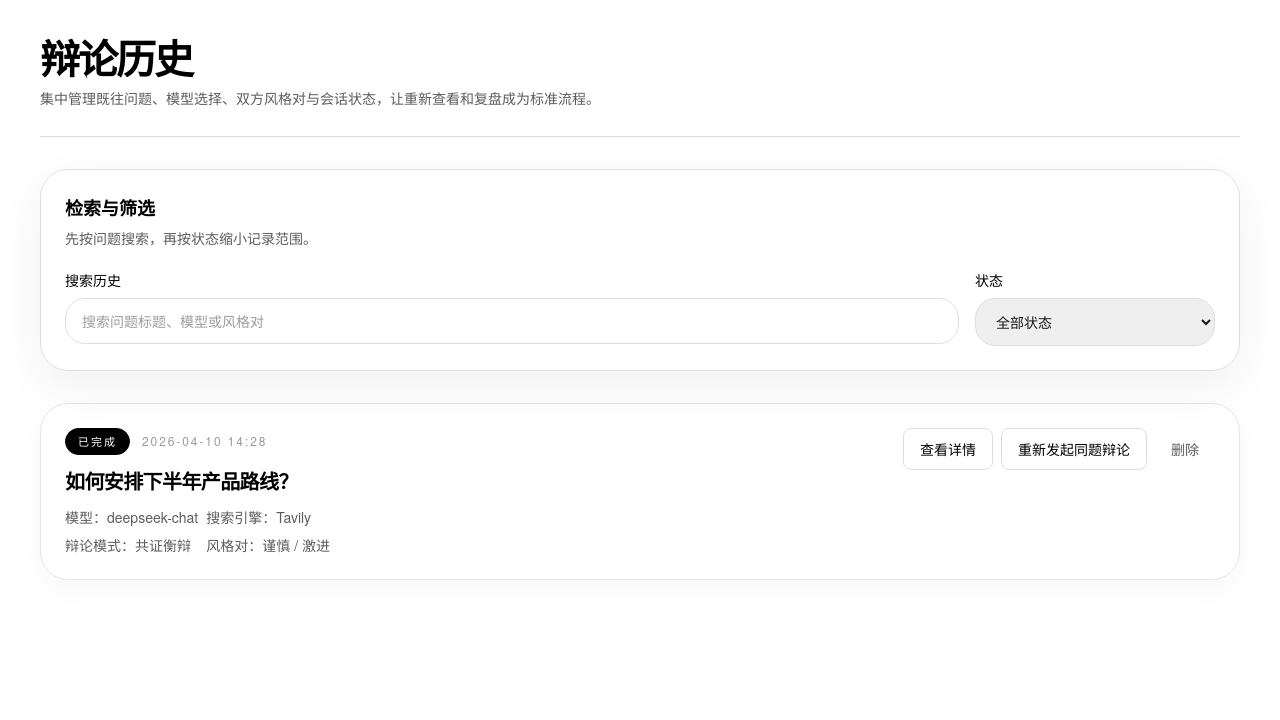
Test: HistoryPage › closes the debate details dialog when clicking outside the dialog surface
This screenshot has width=1280, height=720.
Step 1. Click the button "查看详情" → (948, 449), box [903,428,993,470]
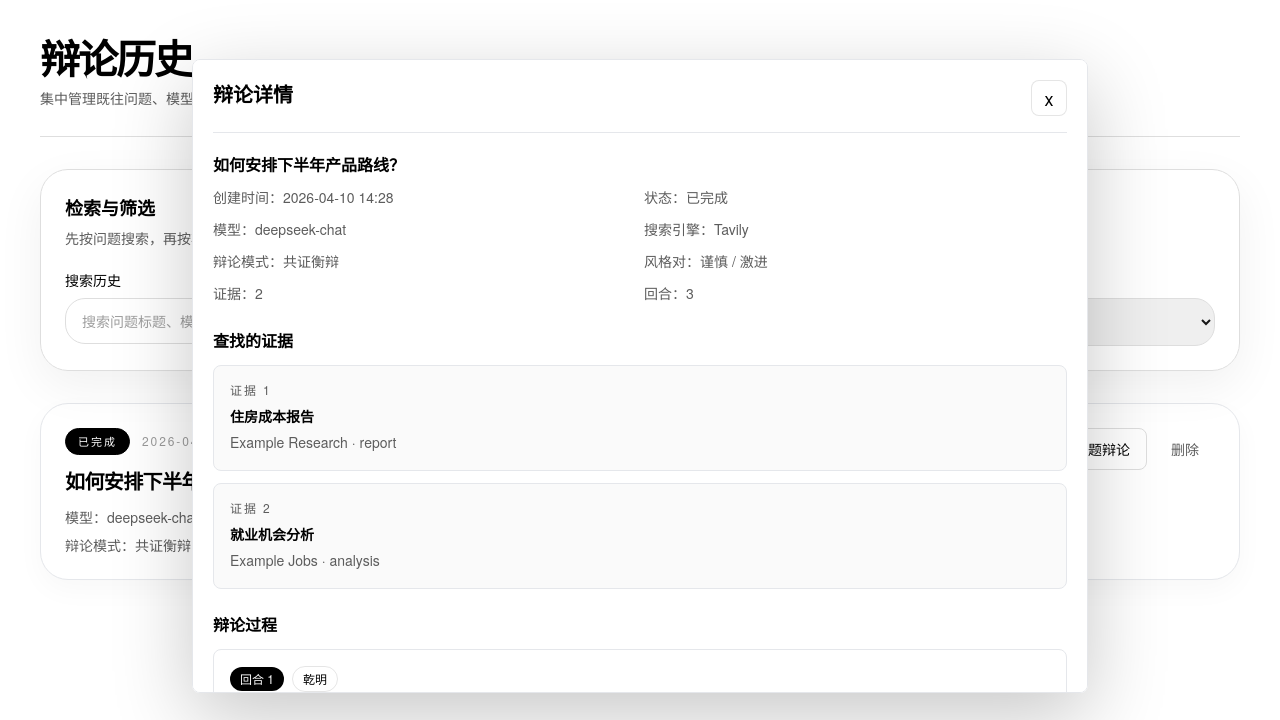
Expected: the dialog "辩论详情" is shown
Step 2. Click the element with test id "history-dialog-backdrop" → (640, 376), box [192,59,1088,693]
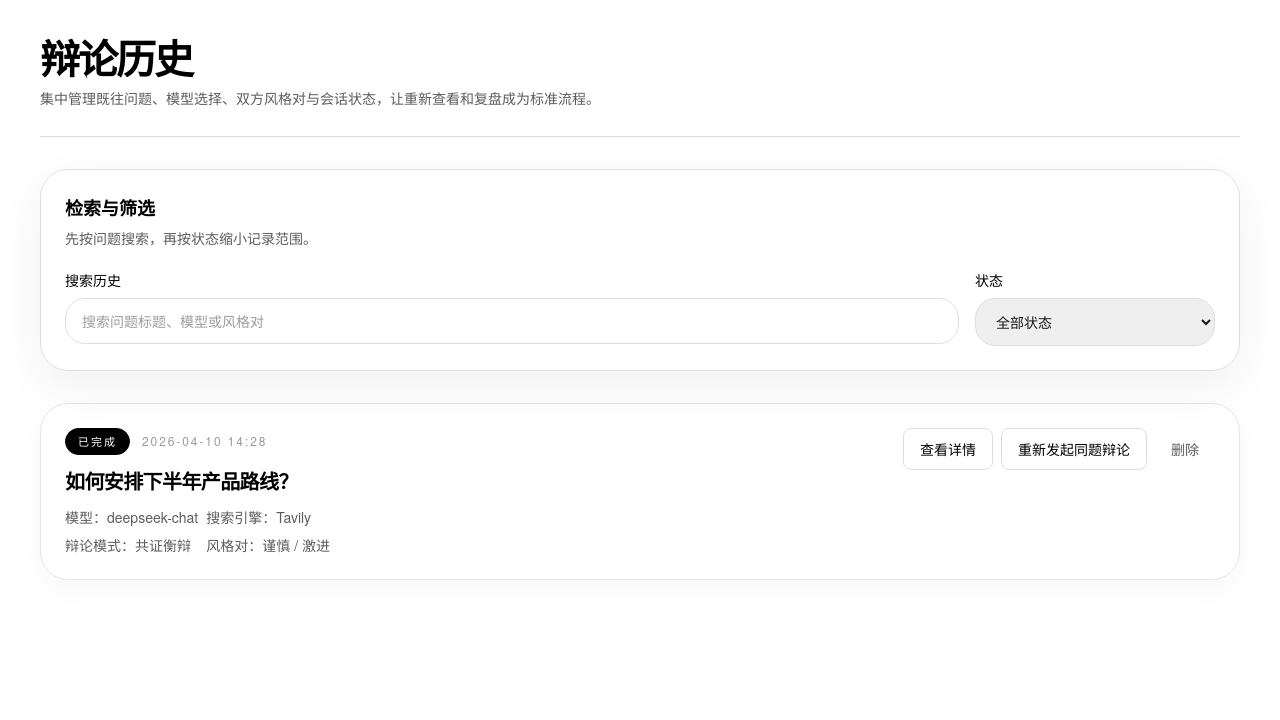
Expected: the heading "辩论详情" is gone
